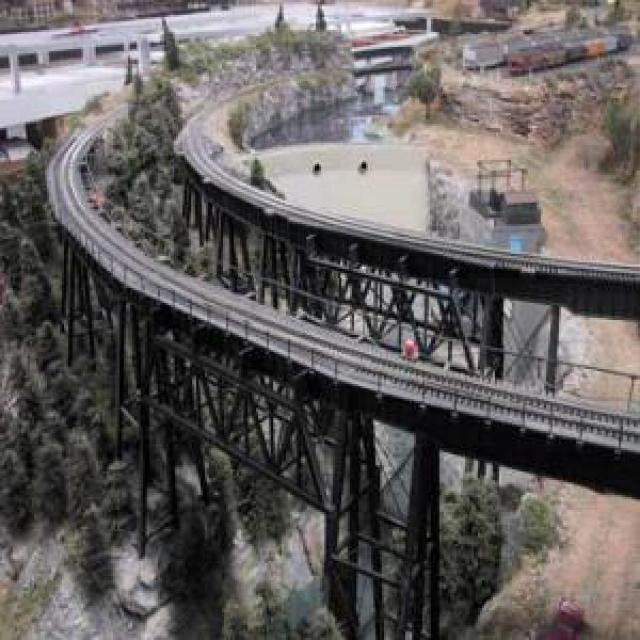rail: (51, 98, 640, 448), (175, 88, 640, 279)
